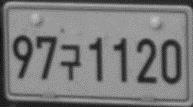0: (160, 37, 182, 85)
1: (87, 35, 104, 82), (113, 36, 128, 83)
2: (135, 37, 158, 85)
7: (34, 35, 58, 80)
9: (11, 33, 33, 79)
구: (60, 43, 82, 80)
